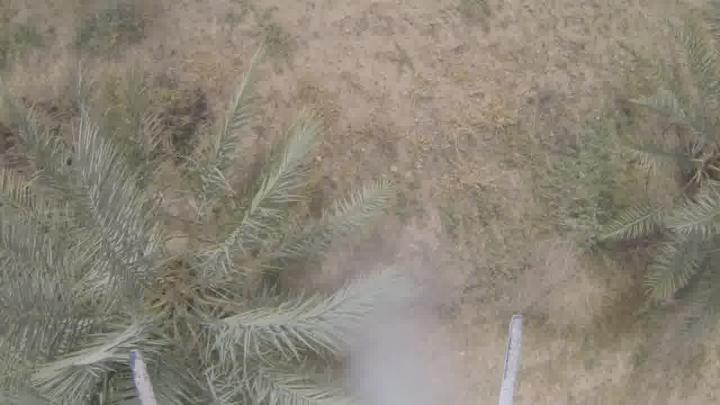Date-Palm-Crown: (0, 159, 304, 405), (657, 53, 720, 282)
